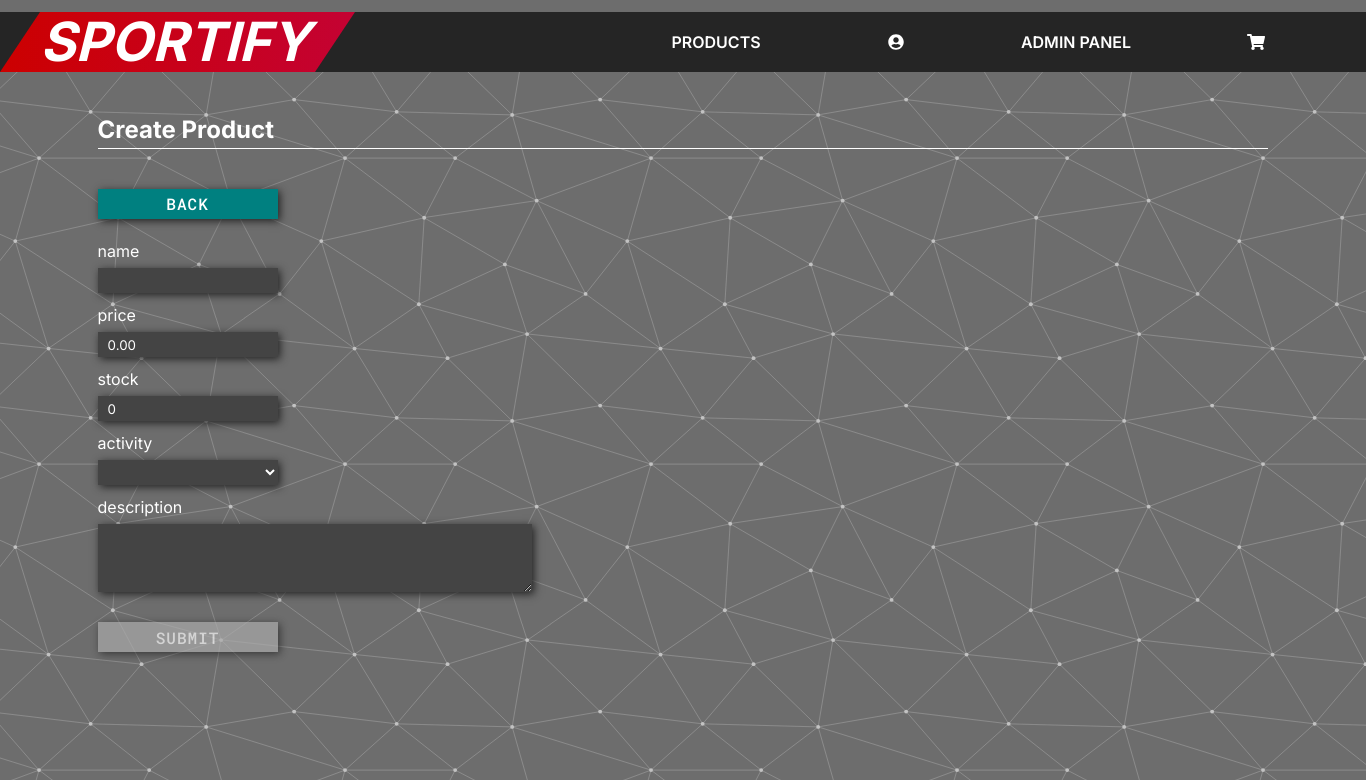
Test: create product form › creates product and redirects to admin panel
Type "prod-name diving fins" into the field labelled "name" at (188,280), box [98,268,278,293]
Replace the text in the number field labelled "price" with "300" at (188,344), box [98,332,278,357]
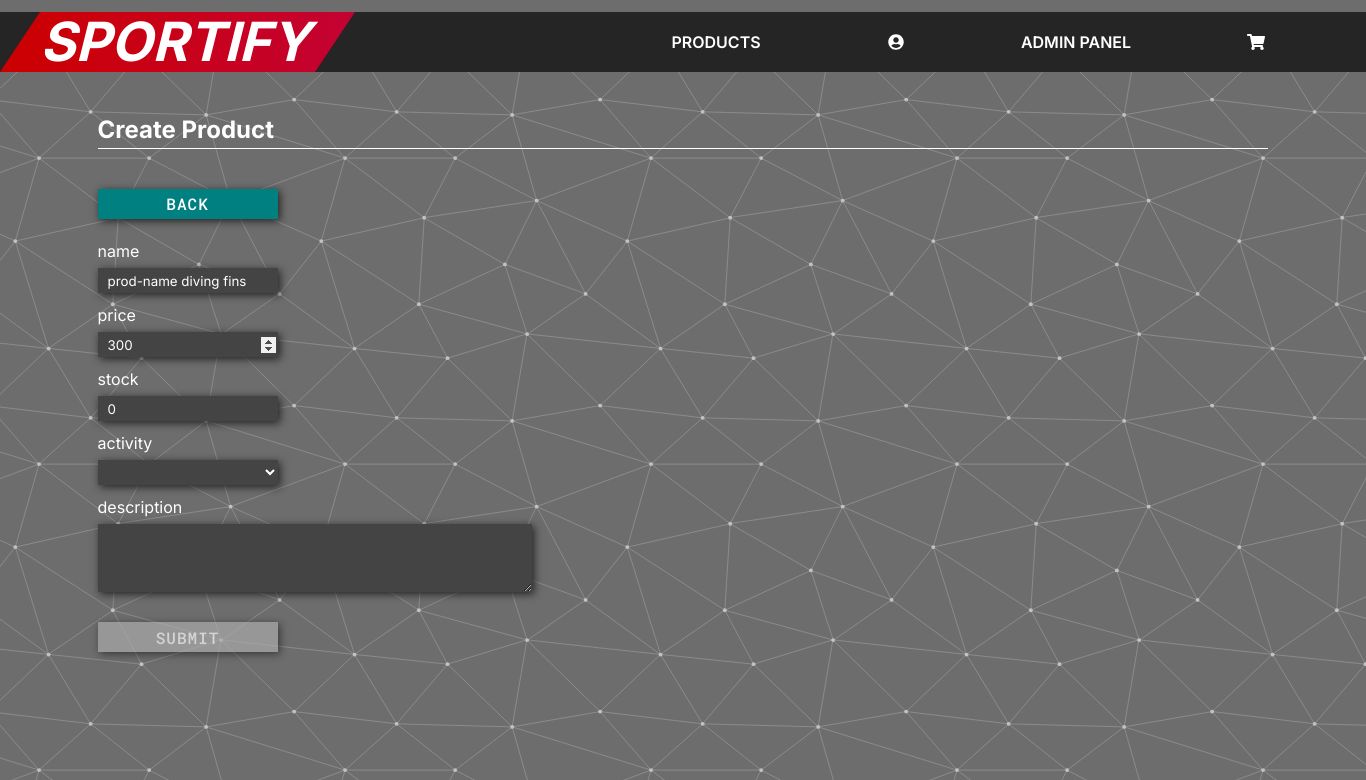
Type "1" into the number field labelled "stock" at (188,408), box [98,396,278,421]
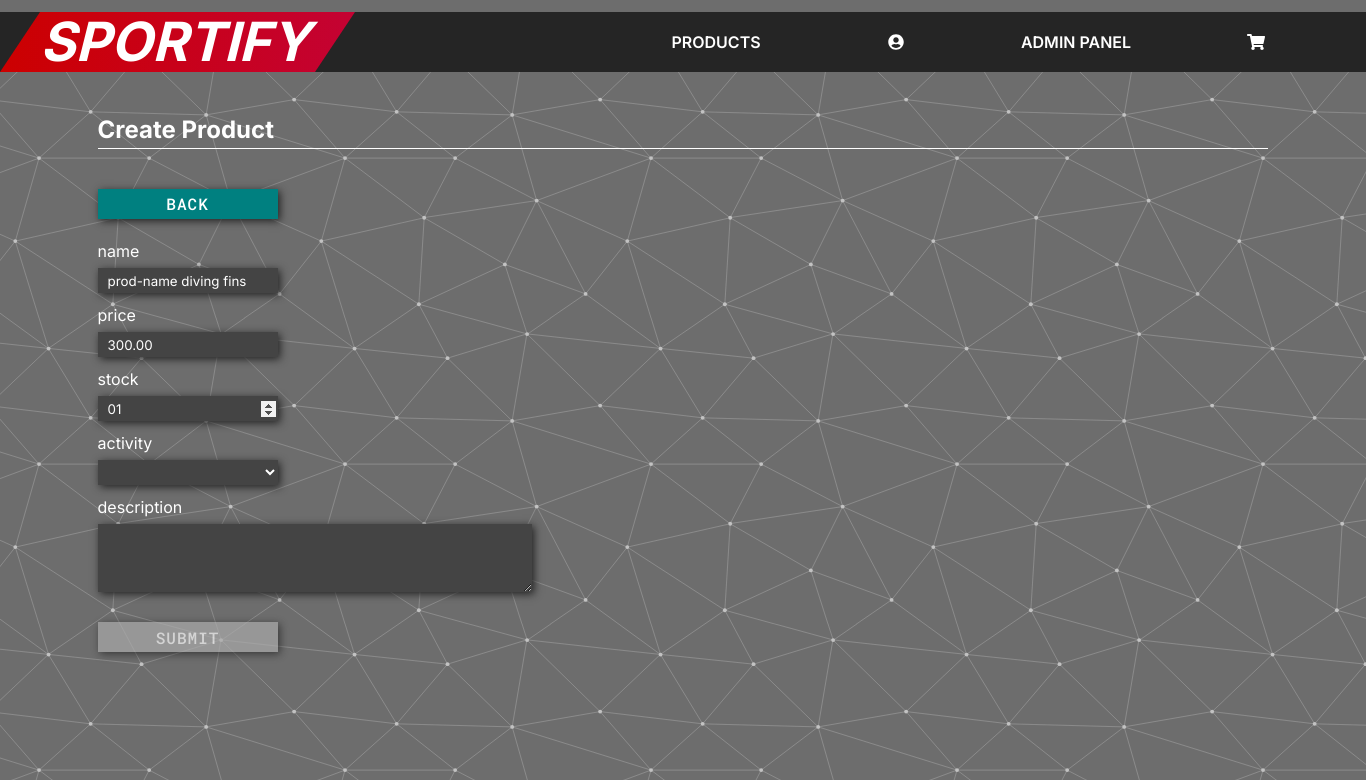
Select "Swimming" in the dropdown labelled "activity" at (188,472), box [98,460,278,485]
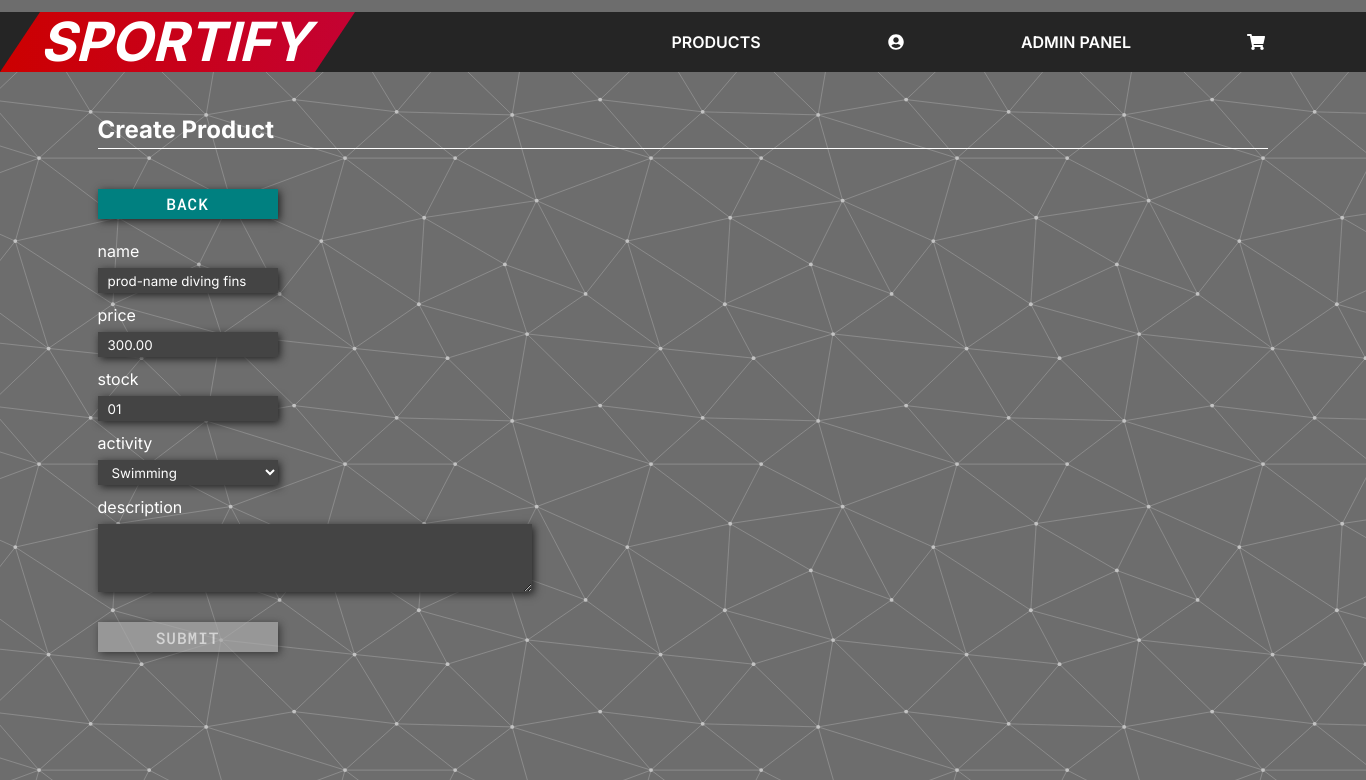
Type "description of diving fins" into the text box labelled "description" at (315,558), box [98,524,532,592]
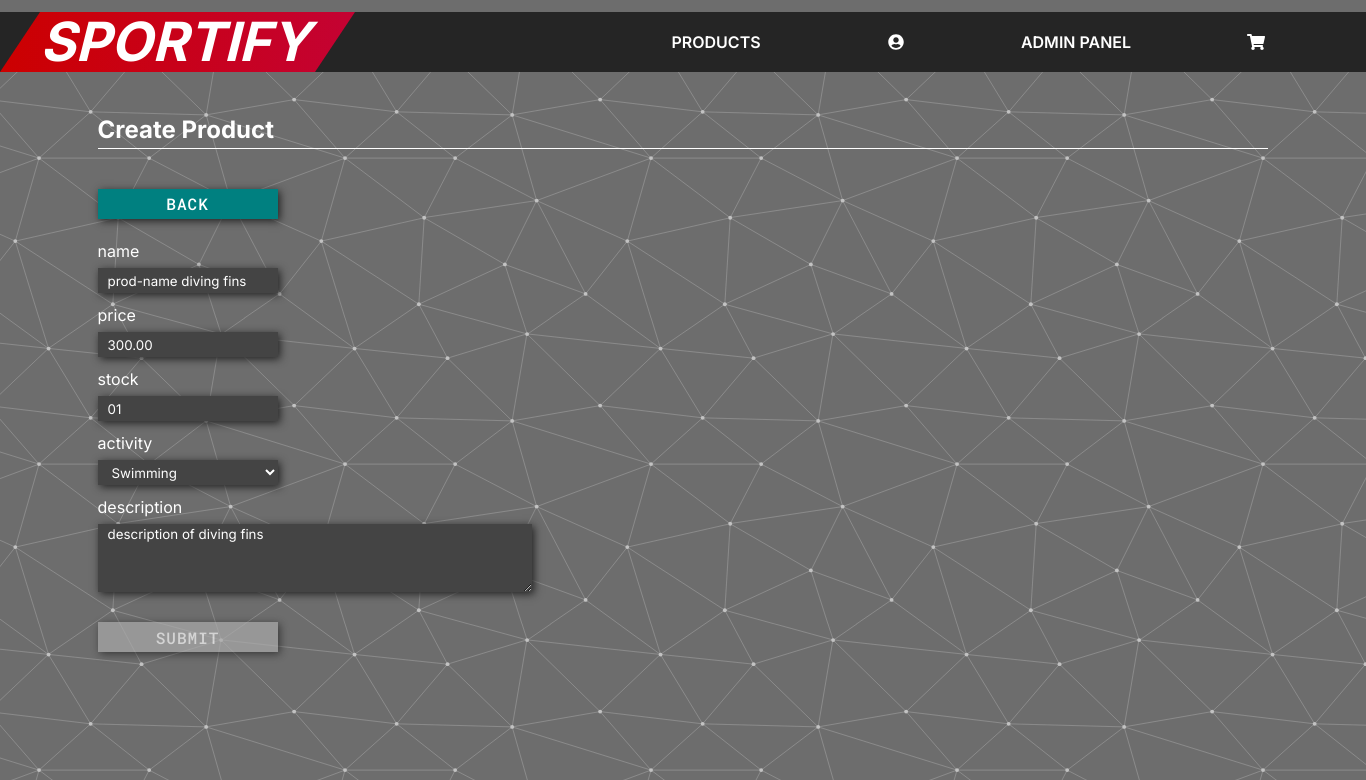
Press Tab
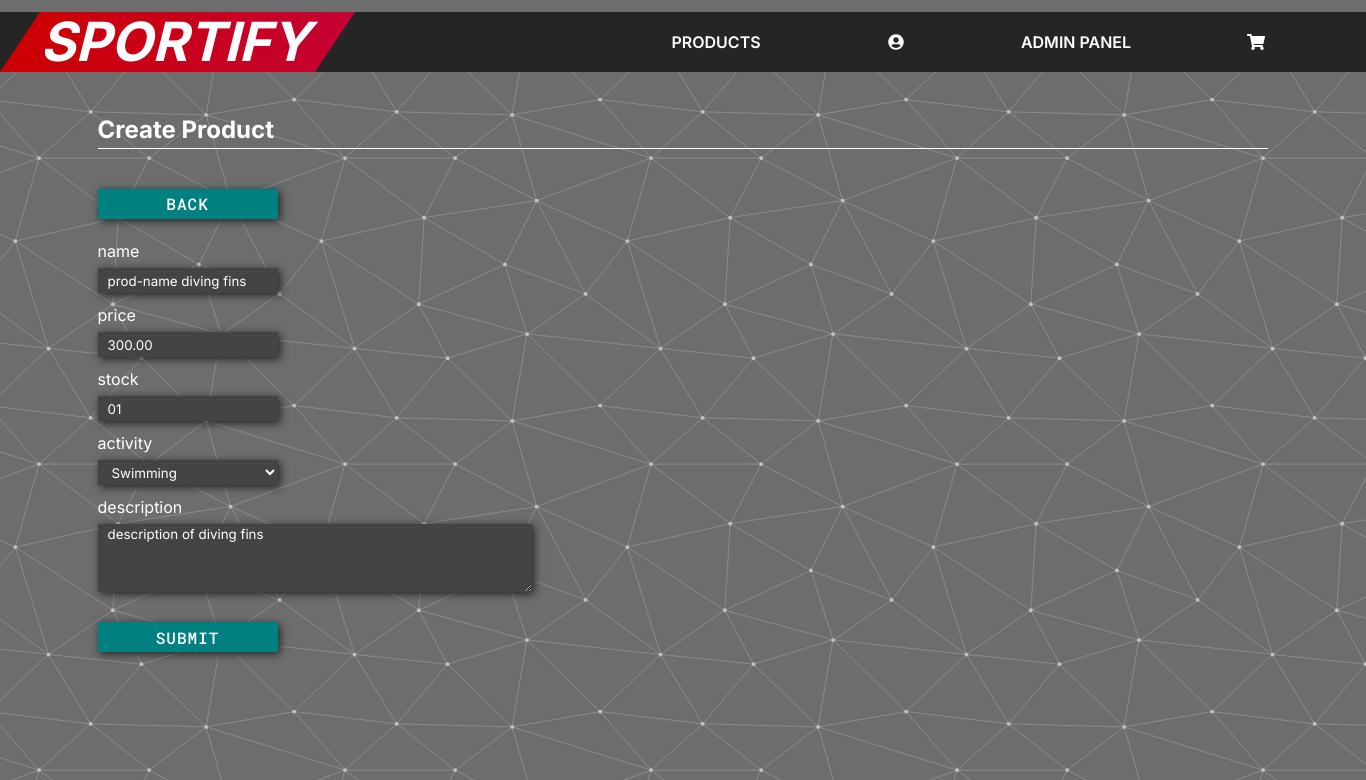
Click the button "Submit" at (188,637), box [98,622,278,652]
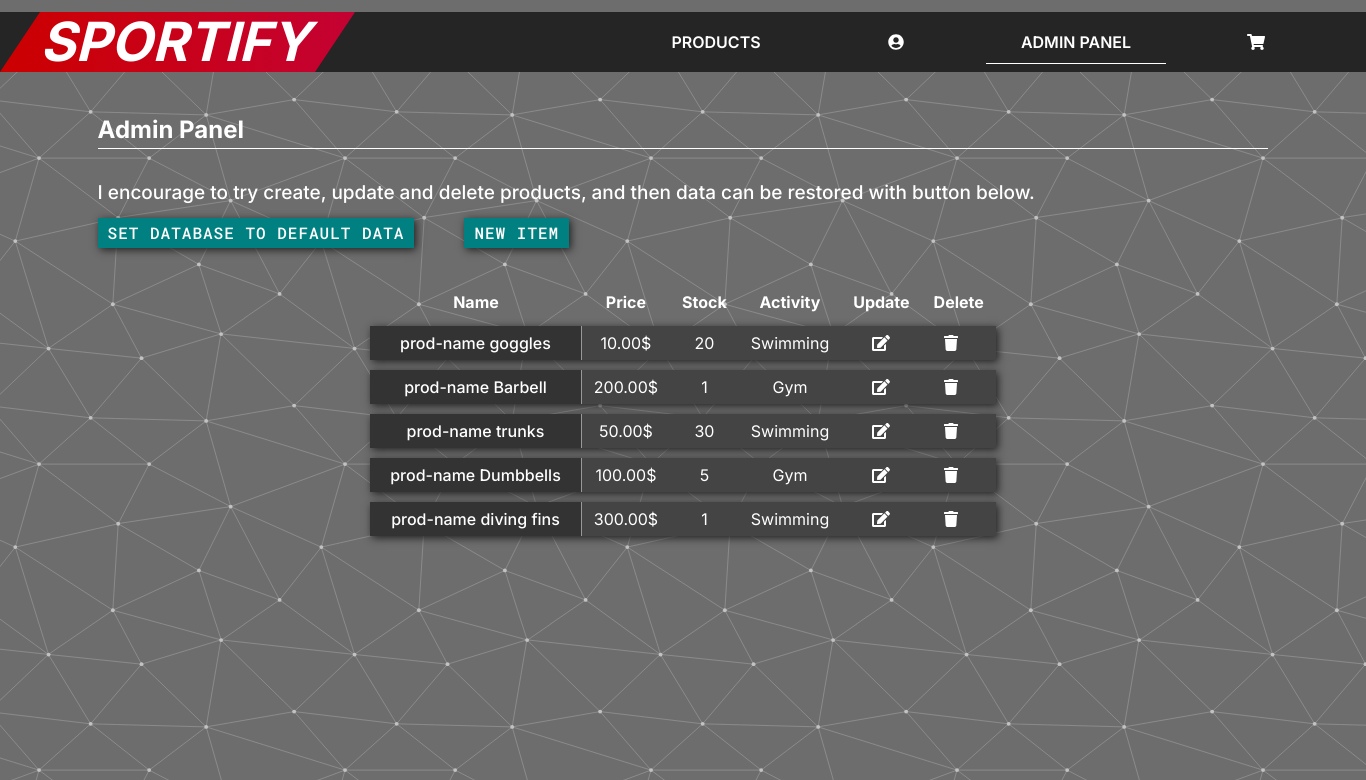
Now the heading "Admin Panel" is shown, box [98,112,1268,149]
Now the row "prod-name diving fins 300.00$ 1 Swimming" is shown, box [370,502,996,536]
